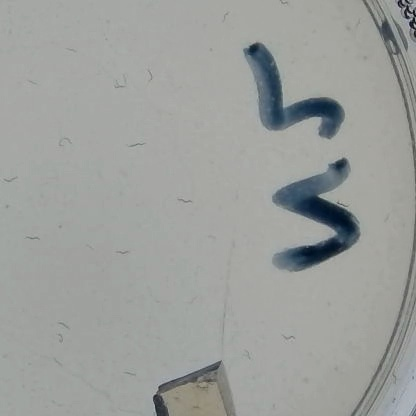worm: (111, 73, 130, 92), (123, 141, 149, 154), (52, 133, 72, 149), (0, 172, 21, 186), (142, 67, 158, 85), (23, 230, 43, 244), (218, 7, 233, 25), (61, 44, 80, 58), (278, 331, 298, 343), (241, 347, 256, 362), (379, 212, 395, 226), (23, 77, 42, 88), (184, 293, 200, 306), (118, 370, 138, 380), (55, 320, 73, 331), (50, 355, 63, 370), (48, 398, 65, 409), (53, 332, 67, 345), (353, 16, 367, 29), (175, 197, 194, 206), (114, 247, 129, 258), (275, 0, 293, 9), (201, 232, 220, 240), (84, 241, 95, 254)
